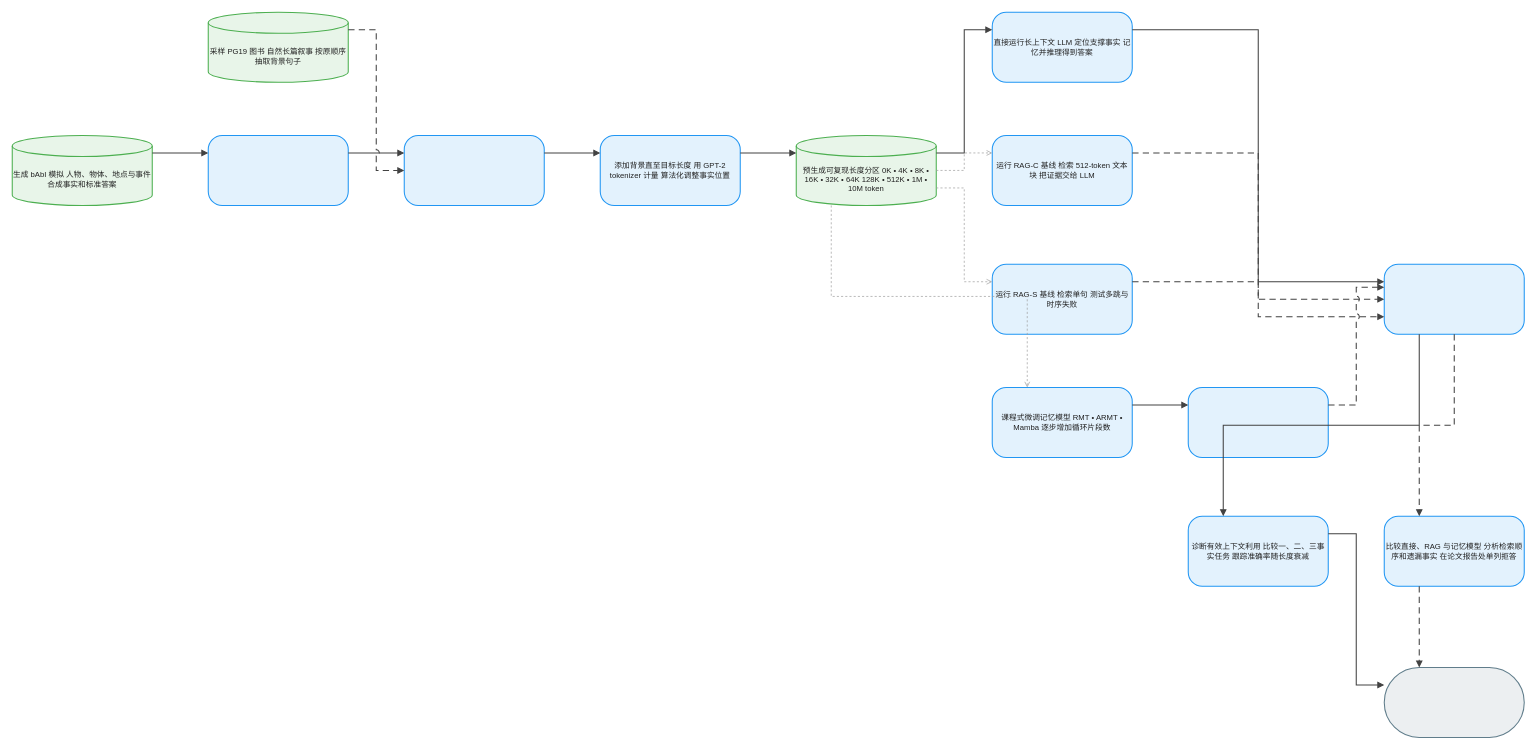
Some shapes in this 1537 by 750 pixel diagram are drawn without their labels. Here are the shapes that lost their labels. From the top down, the centre of each, then its label:
[277,170]: 选择 QA1 至 QA20 事实链 • 归纳 • 演绎 计数 • 列表/集合 • 时空推理
[473,170]: 把任务事实隐藏到背景文本 交错相关句与干扰句 保持自然顺序和逻辑顺序
[1453,298]: 计算任务精确准确率 按 QA 任务与上下文长度报告 32K 以内 1,000 例，以上 100 例
[1257,422]: 评测循环记忆 外推到训练长度之外 部分实验测试到 50M token
[1453,702]: 发布 BABILong 结果 按任务、长度和方法报告准确率 固定分区与 50M 外推结果
